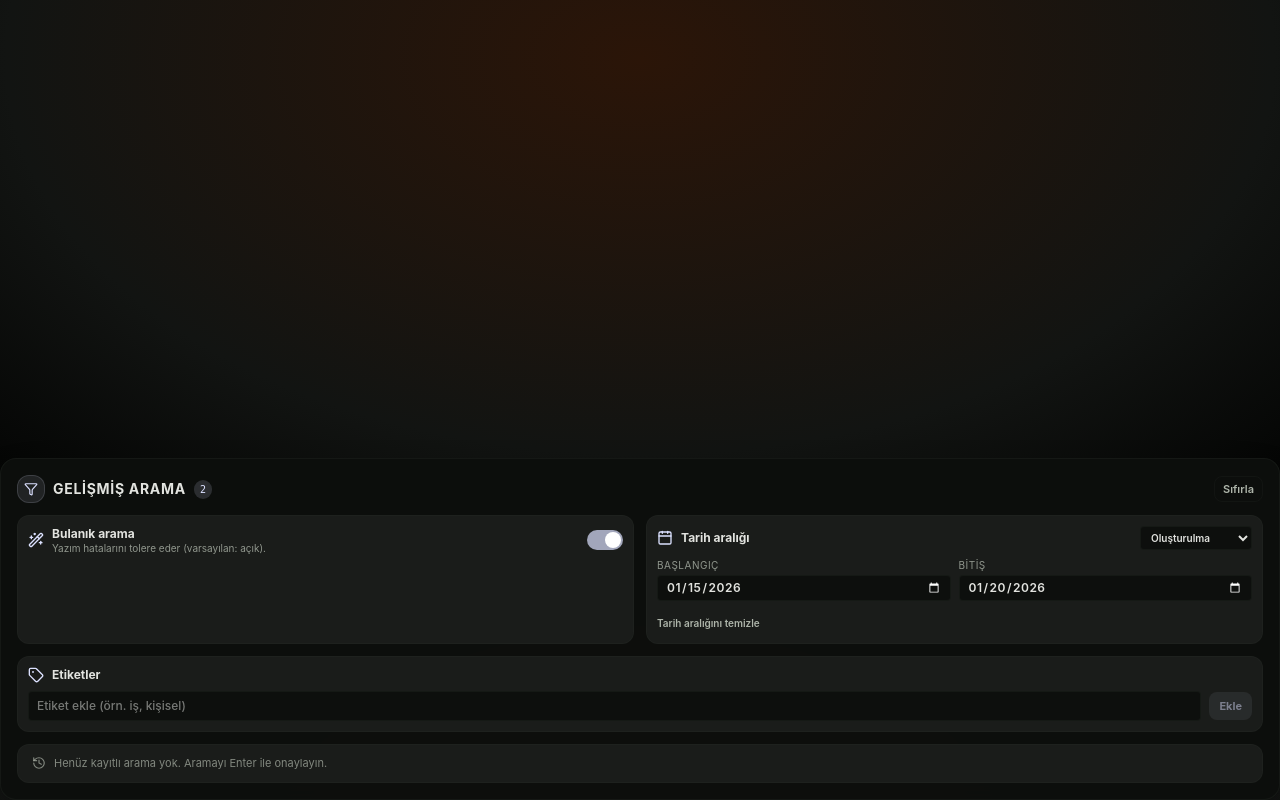
AdvancedSearchPanel › rejects an invalid date range with an inline alert
(page scrolled)
Step 1. Type "2026-12-31" into the date field with test id "advanced-search-date-from" → {"x": 804, "y": 588}, box [657,575,950,601]
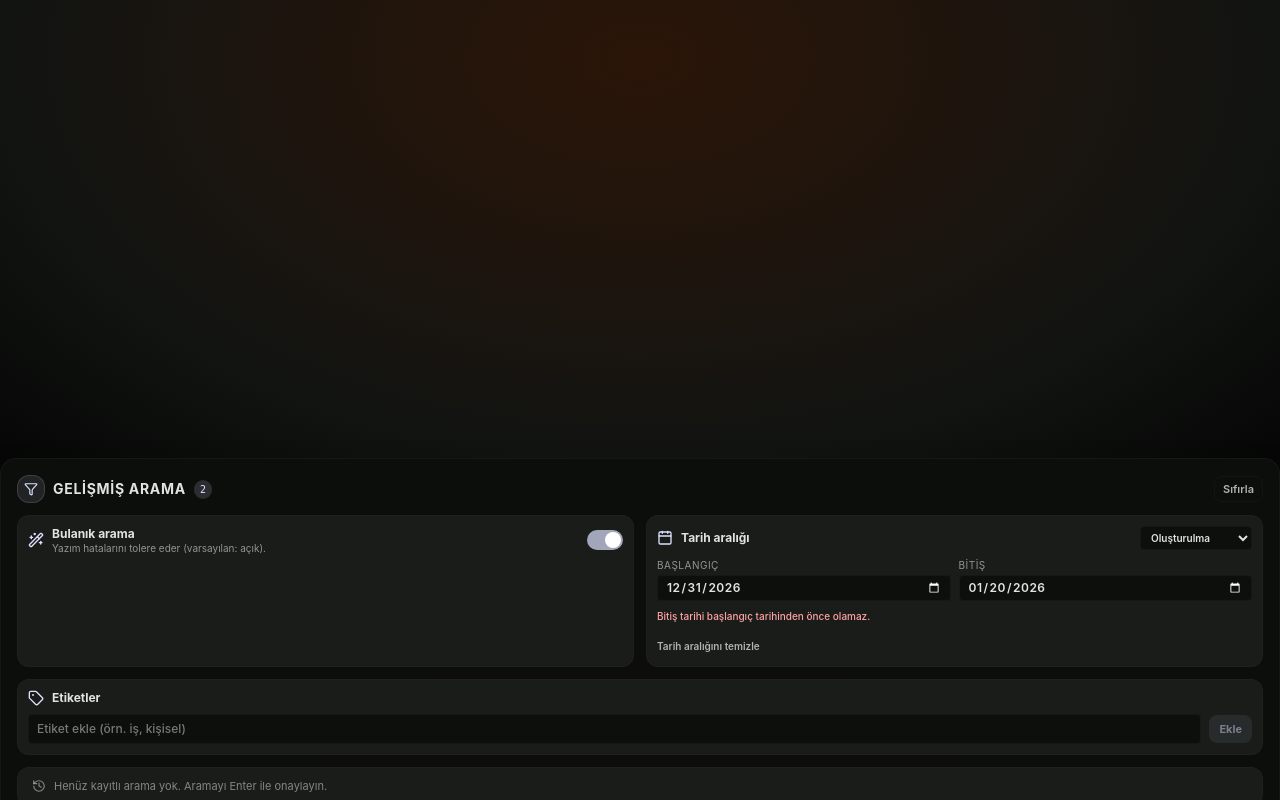
Expected: the message "Bitiş tarihi başlangıç tarihinden önce olamaz." is shown, [657,610,870,622]
